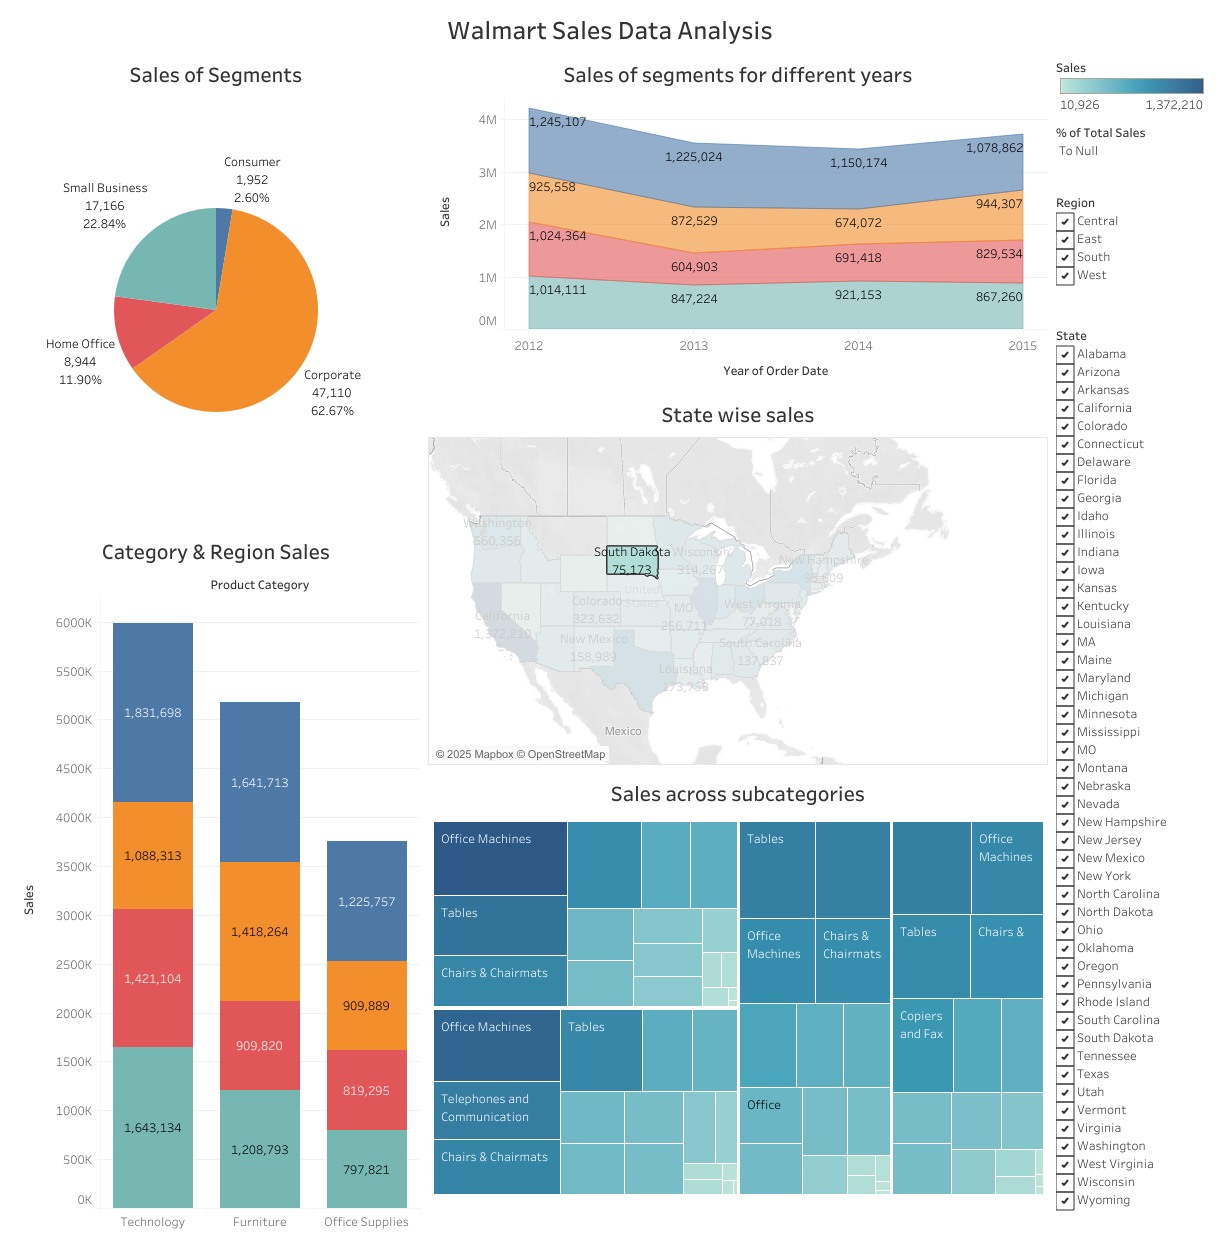

Layout of this report page (visuals, bound fields, positions):
{"tool":"tableau","page":{"name":"walmart sales analysis","canvas":[1000,1000],"units":"permille","ordinal":0},"visuals":[{"type":"title","box":[6.6,6.4,986.9,38.9]},{"type":"worksheet","title":"Total sales","mark":"Pie","box":[6.6,45.2,341,376.6]},{"type":"worksheet","title":"Sales of segments for different years","mark":"Area","rows":["Sales"],"cols":["Order Date"],"box":[347.5,45.2,514.8,269.8]},{"type":"legend","title":"State wise sales","param":"[federated.1g7ysay1l3883k16el5mv04rq1of].[sum:Sales:qk]","box":[862.3,45.2,131.2,57.9]},{"type":"filter","title":"Total sales","param":"[federated.1g7ysay1l3883k16el5mv04rq1of].[pcto:sum:Sales:qk:2]","box":[862.3,103.2,131.2,79.4]},{"type":"filter","title":"category wise sales","param":"[federated.1g7ysay1l3883k16el5mv04rq1of].[none:Region:nk]","box":[862.3,182.6,131.2,119.8]},{"type":"filter","title":"State wise sales","param":"[federated.1g7ysay1l3883k16el5mv04rq1of].[none:State:nk]","box":[862.3,302.4,131.2,691.3]},{"type":"worksheet","title":"State wise sales","mark":"Automatic","box":[347.5,315.1,514.8,295.2]},{"type":"worksheet","title":"category wise sales","mark":"Automatic","rows":["Sales"],"cols":["Product Category"],"box":[6.6,421.8,341,571.8]},{"type":"worksheet","title":"Sales across subcategories","mark":"Automatic","box":[347.5,610.3,514.8,383.3]}]}

Visuals, with their boxes on the dashboard's canvas, which has no fixed pixel size, in thousandths of its width and height (x1, y1, x2, y2). These are canvas units, not pixel positions in the 1219x1259 screenshot, which may show the page scaled, cropped or inside an application window:
title: (left=7, top=6, right=994, bottom=45)
"Total sales" worksheet (Pie marks): (left=7, top=45, right=348, bottom=422)
"Sales of segments for different years" worksheet (Area marks): (left=348, top=45, right=862, bottom=315)
"State wise sales" legend: (left=862, top=45, right=994, bottom=103)
"Total sales" filter: (left=862, top=103, right=994, bottom=183)
"category wise sales" filter: (left=862, top=183, right=994, bottom=302)
"State wise sales" filter: (left=862, top=302, right=994, bottom=994)
"State wise sales" worksheet: (left=348, top=315, right=862, bottom=610)
"category wise sales" worksheet: (left=7, top=422, right=348, bottom=994)
"Sales across subcategories" worksheet: (left=348, top=610, right=862, bottom=994)
